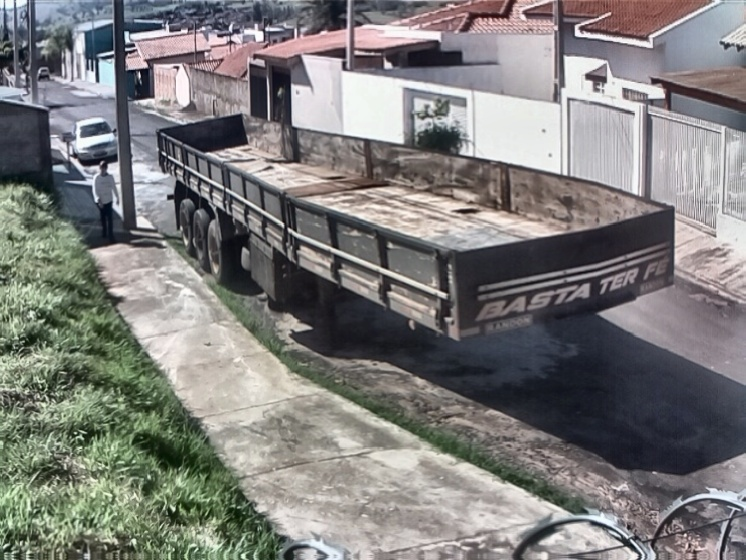person: (90, 159, 123, 246)
